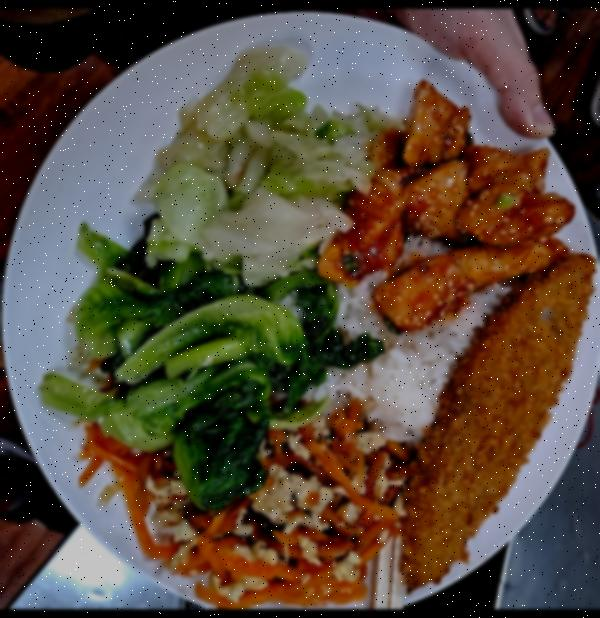big fried chicken leg: (0, 12, 600, 609)
big herbal chicken leg: (309, 245, 526, 451)
braised fish fillet: (59, 256, 349, 506), (139, 38, 373, 276), (123, 415, 407, 607)
braised pork: (390, 249, 600, 599), (322, 84, 576, 332)
